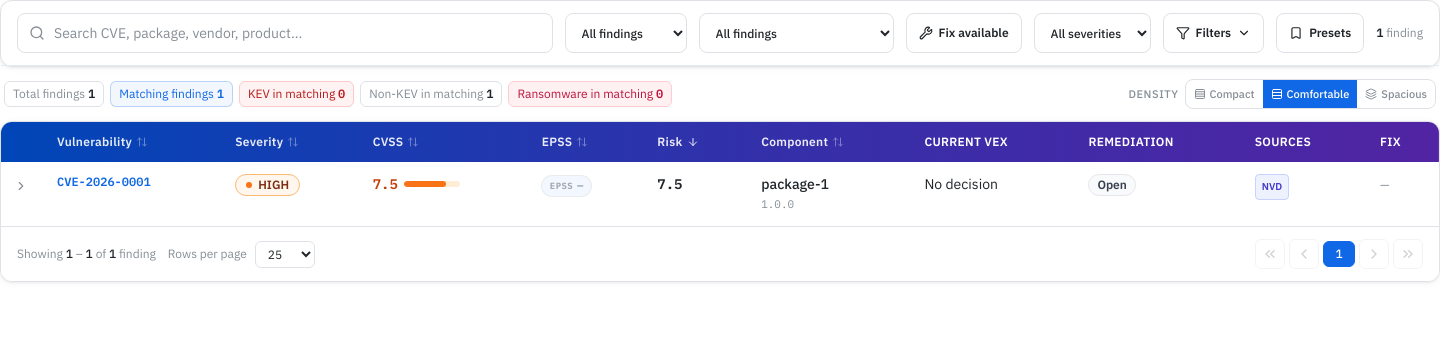
FindingsTable KEV filters › shows a filtered empty state with a working clear action
The image size is (1440, 360).
Type "no-such-cve" into the search field at (285, 33), box [17,13,552,53]
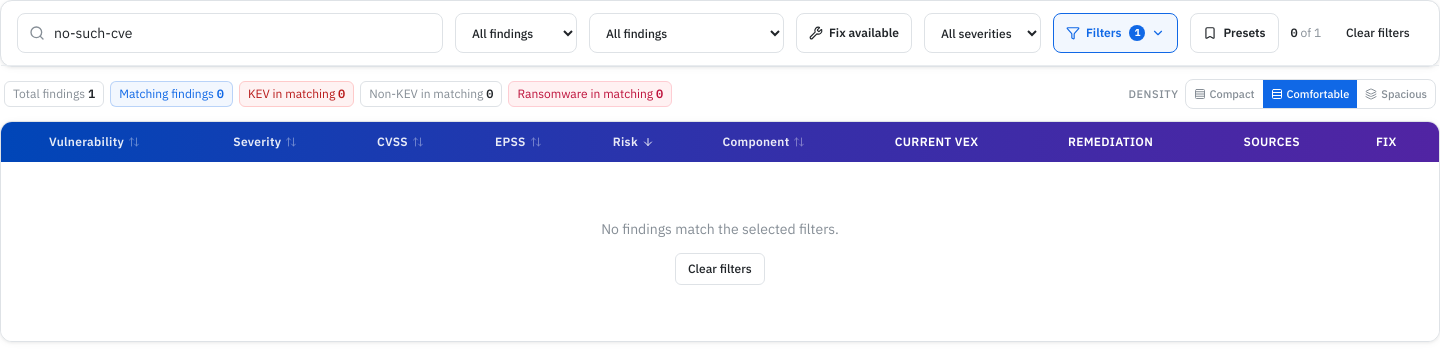
Result: the text "No findings match the selected filters." is shown at [601,220,839,238]
Click the button "Clear filters" below "No findings match the selected filters." at (720, 269), box [675,253,765,285]
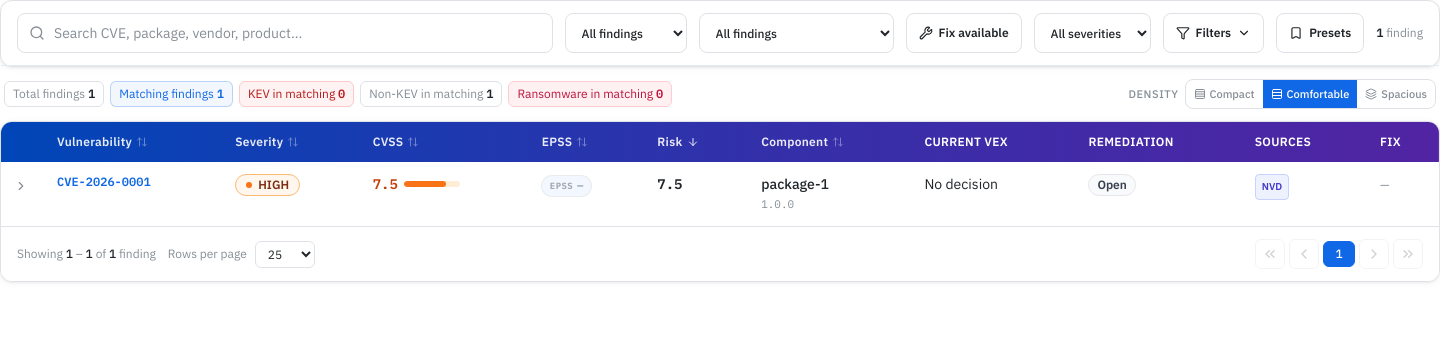
Result: the search field is empty at [17,13,552,53]
Result: the text "No findings match the selected filters." is gone
